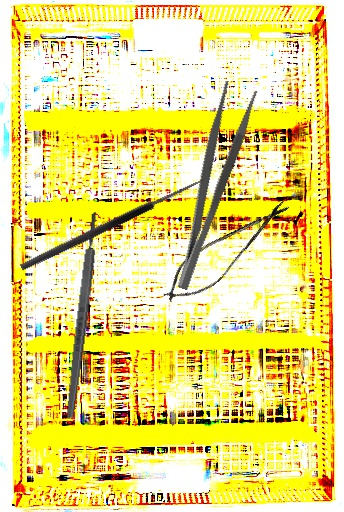Dressing Forceps: (156, 80, 261, 292)
Hook Surgical: (14, 165, 209, 273)
Micro Scissor: (153, 187, 299, 315)
Scalpel Handle: (63, 210, 101, 421)
